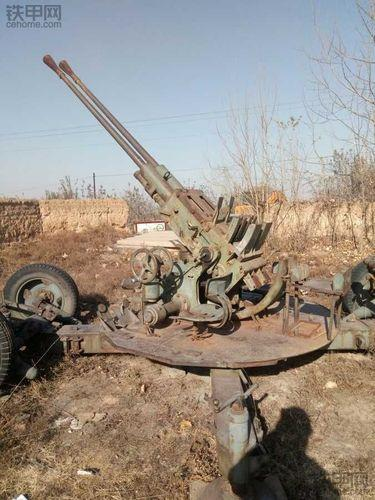MIL_SPG: (45, 56, 342, 368)
